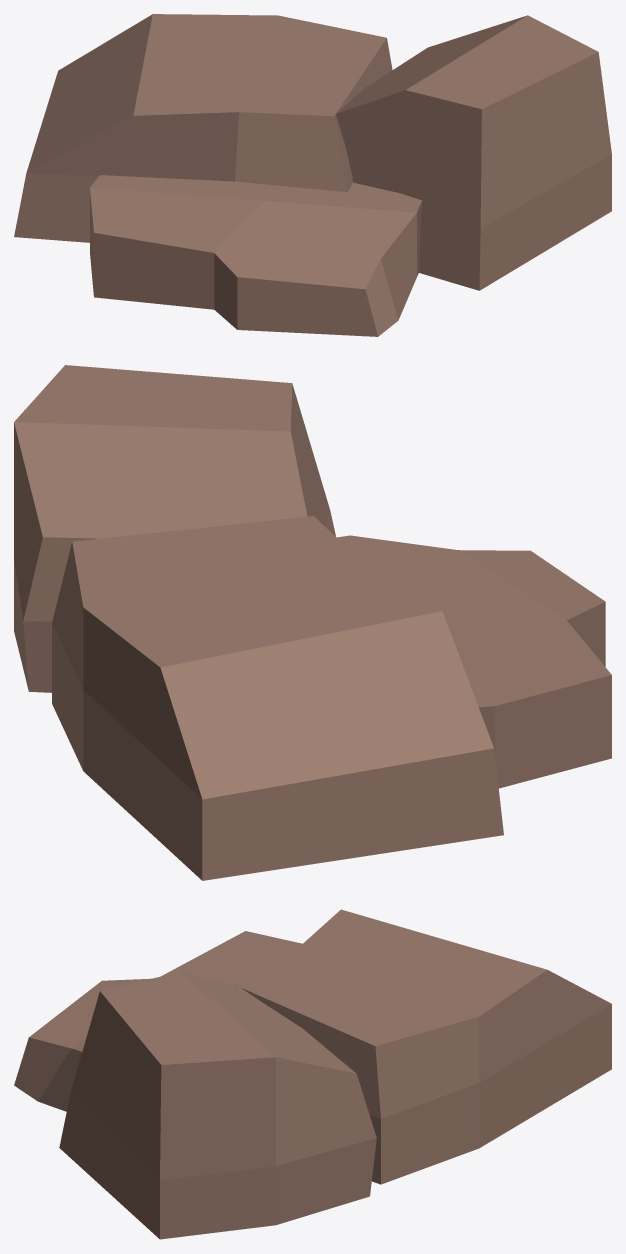
File: Rock.017.fbx
3 views of the same model, one above another, from view 1: azimuth 30°, elevation 25°; view 2: azimuth 150°, elevation 25°; view 3: azimuth 270°, elevation 25° (orthographic). The views are drawn at different scales.
Visible parts, largest first — view 1: Rock.017; view 2: Rock.017; view 3: Rock.017.
Part boxes in pixels (left/top/right/bottom): Rock.017: left=14, top=14, right=611, bottom=336; Rock.017: left=14, top=365, right=611, bottom=880; Rock.017: left=14, top=909, right=611, bottom=1239.
Bounding box in the file's own units: 5.14 × 1.67 × 5.38.
